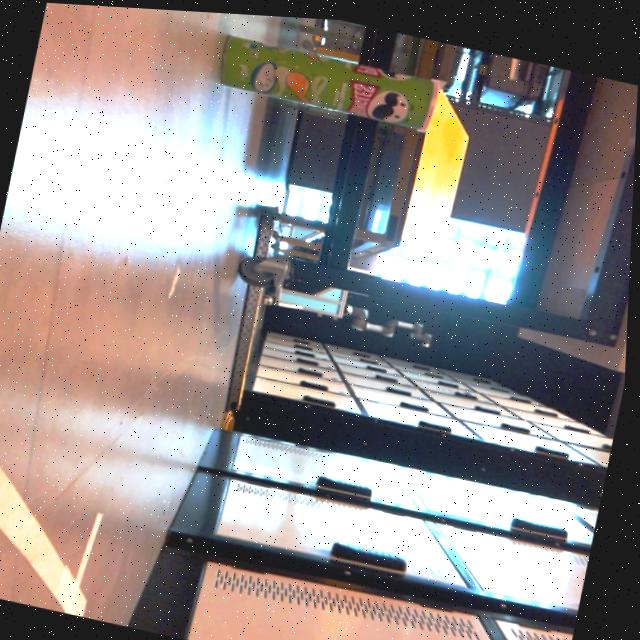greenpringles: (185, 9, 455, 141)
